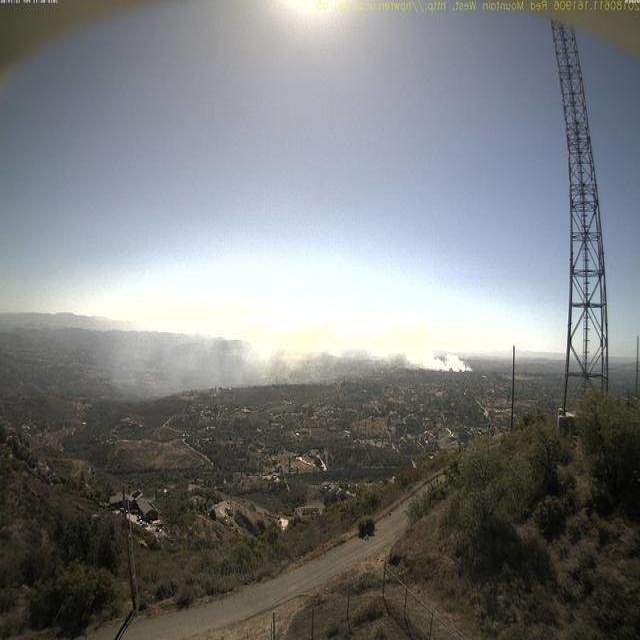Smoke: (175, 321, 476, 395)
